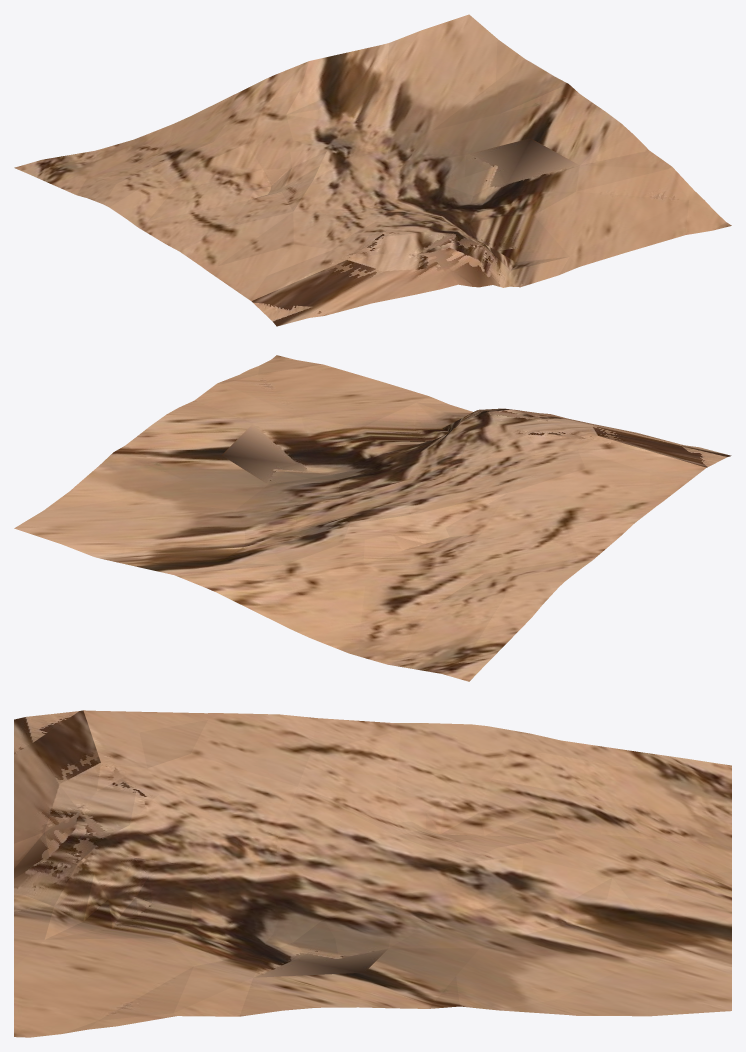
3 renders of one model, top to bottom at view 1: azimuth 30°, elevation 25°; view 2: azimuth 150°, elevation 25°; view 3: azimuth 270°, elevation 25°, orthographic. The views are drawn at different scales.
Bounding box in the file's own units: 1.04 × 0.1238 × 1.04.
2 materials, 2 textured.
